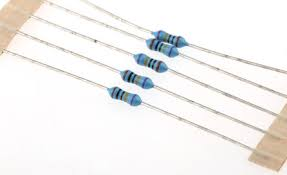resistor: (102, 83, 144, 113), (114, 67, 158, 93), (129, 54, 175, 75)
